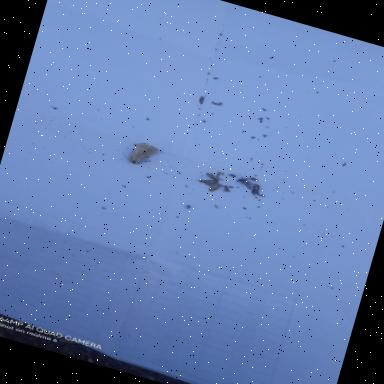abw: (120, 137, 159, 169)
pbw: (194, 174, 216, 186), (248, 182, 264, 196), (207, 180, 222, 194), (205, 172, 223, 183), (214, 171, 222, 178)
